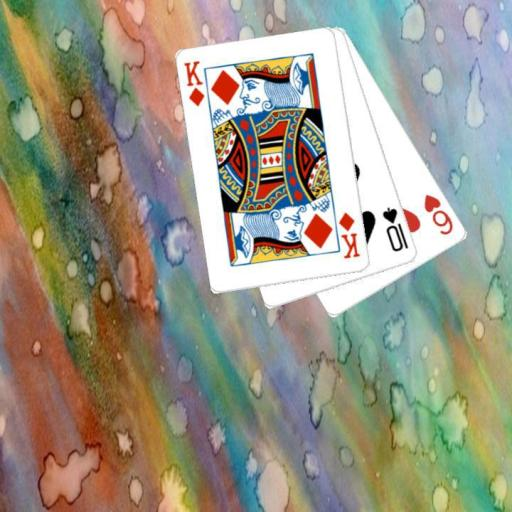10S: (379, 204, 410, 254)
6H: (421, 191, 455, 237)
KD: (336, 209, 362, 261), (182, 58, 207, 108)
